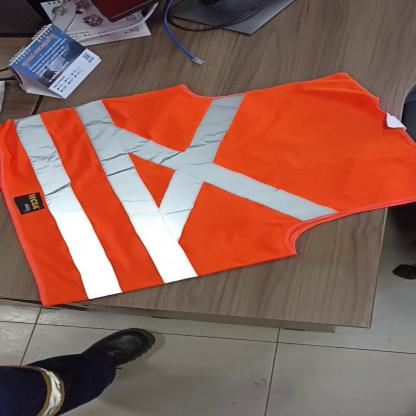colete: (0, 69, 416, 311)
